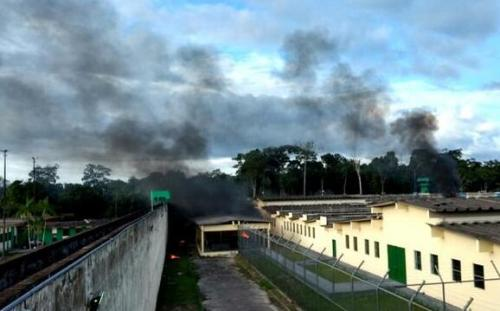smoke: (31, 35, 427, 161)
